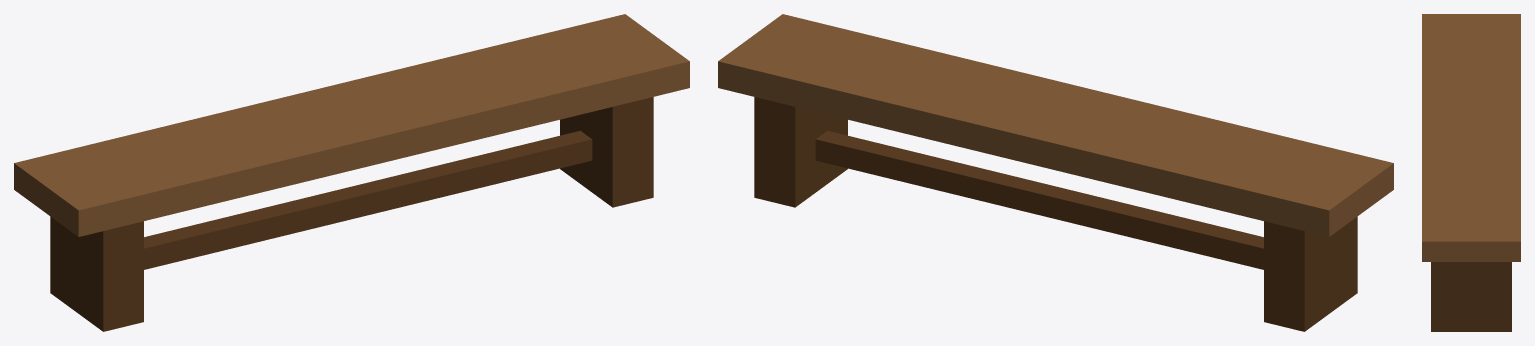
The model's file is xma-bench.glb.
The picture shows the model from 3 angles, left to right: view 1: azimuth 30°, elevation 25°; view 2: azimuth 150°, elevation 25°; view 3: azimuth 270°, elevation 25°; orthographic projection. The views are drawn at different scales.
Parts seen in each view (by area): view 1: box-prop; view 2: box-prop; view 3: box-prop.
Part boxes in pixels (x1=…): box-prop: x1=14, y1=14, x2=689, y2=331; box-prop: x1=718, y1=14, x2=1393, y2=331; box-prop: x1=1422, y1=14, x2=1520, y2=331.
Bounding box in the file's own units: 2.4 × 0.5 × 0.44.
